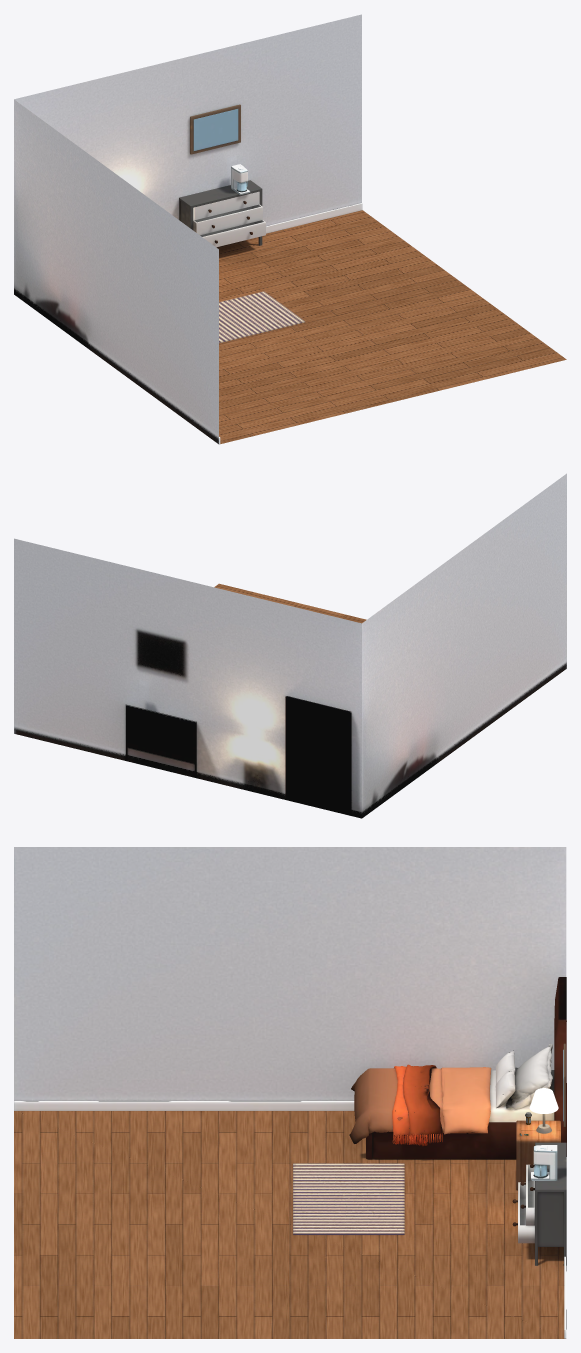
The model's file is escenario_tardio-vFFl6KSW.glb.
The picture shows the model from 3 angles, top to bottom: view 1: azimuth 30°, elevation 25°; view 2: azimuth 150°, elevation 25°; view 3: azimuth 270°, elevation 25°; orthographic projection. The views are drawn at different scales.
Visible parts, largest first — view 1: Piso, Pared_fondo, Pared_izq, Mueble_Dresser, Alfombra, Cuadro, Zocalo_fondo, Cuadro_marco; view 2: Pared_fondo, Pared_izq, Piso; view 3: Pared_izq, Piso, Mueble_SingleBed, Alfombra, Mueble_Dresser, Zocalo_izq, Mesa_noche, Mueble_KA_CoffeeMaker_V1.
Boxes of the visible parts, <box> form: Piso: <box>216,210,566,443</box>; Pared_fondo: <box>14,14,361,226</box>; Pared_izq: <box>14,99,218,444</box>; Mueble_Dresser: <box>179,180,265,247</box>; Alfombra: <box>219,291,305,343</box>; Cuadro: <box>193,109,238,150</box>; Zocalo_fondo: <box>266,203,362,233</box>; Cuadro_marco: <box>190,104,240,154</box>; Pared_fondo: <box>14,538,361,818</box>; Pared_izq: <box>362,473,566,818</box>; Piso: <box>214,583,366,623</box>; Pared_izq: <box>14,847,566,1100</box>; Piso: <box>14,1111,565,1338</box>; Mueble_SingleBed: <box>349,977,566,1158</box>; Alfombra: <box>293,1163,404,1234</box>; Mueble_Dresser: <box>512,1142,566,1265</box>; Zocalo_izq: <box>14,1101,354,1110</box>; Mesa_noche: <box>516,1120,560,1190</box>; Mueble_KA_CoffeeMaker_V1: <box>531,1145,557,1180</box>.
Size of the model in its own units: 4.85 by 2.6 by 4.95.
Materials: 12 (11 with a texture image).
